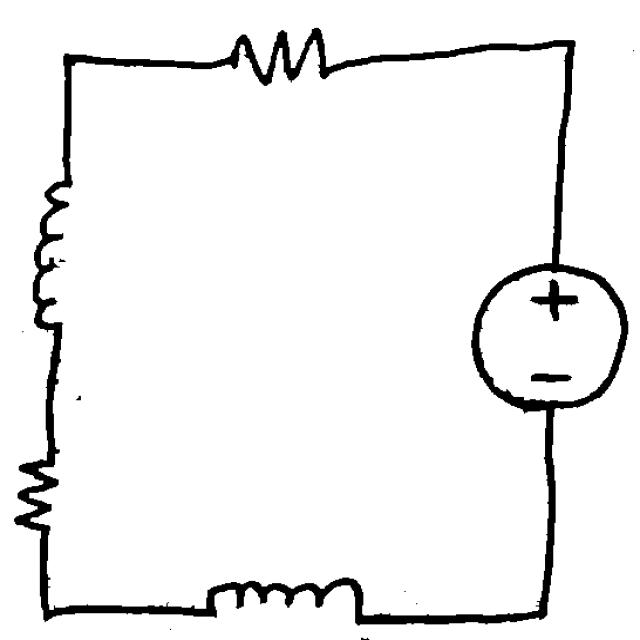dc: (460, 249, 633, 419)
inductor: (187, 564, 371, 635), (21, 168, 91, 344)
resistor: (208, 12, 342, 95), (6, 443, 69, 548)
